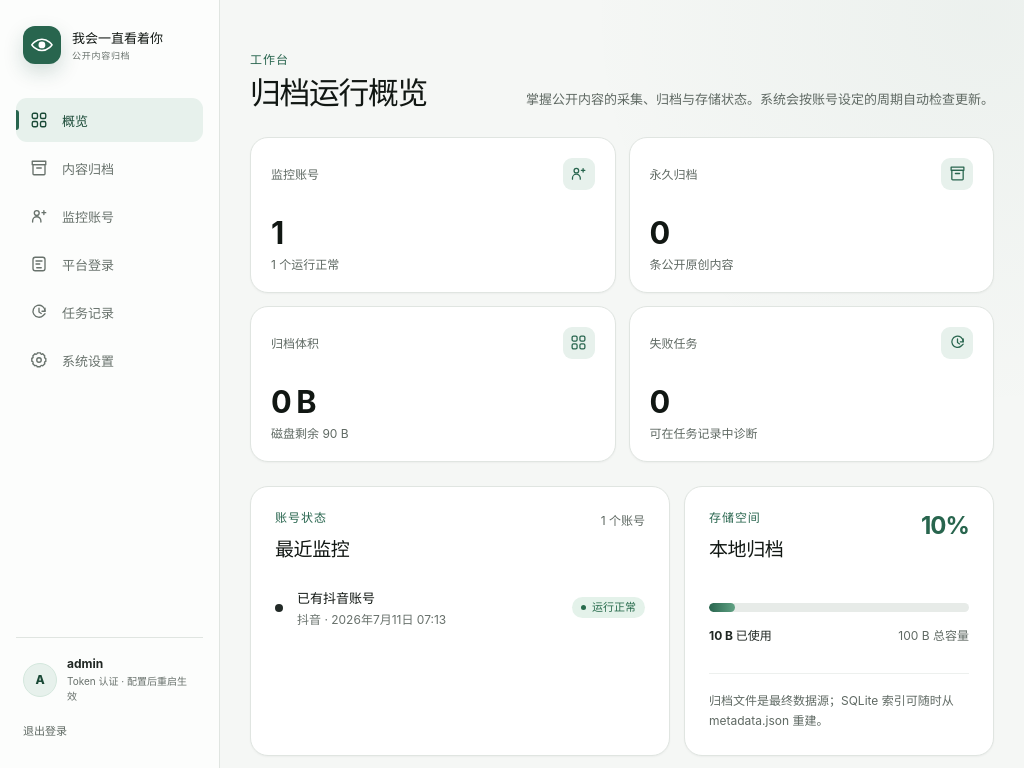
Test case: dashboard account loading › shows a platform login error on the account card and allows retrying
Expected: the text "已有抖音账号" is shown, [297,590,375,606]
Click the button "监控账号": (110, 216) [16,194,203,238]
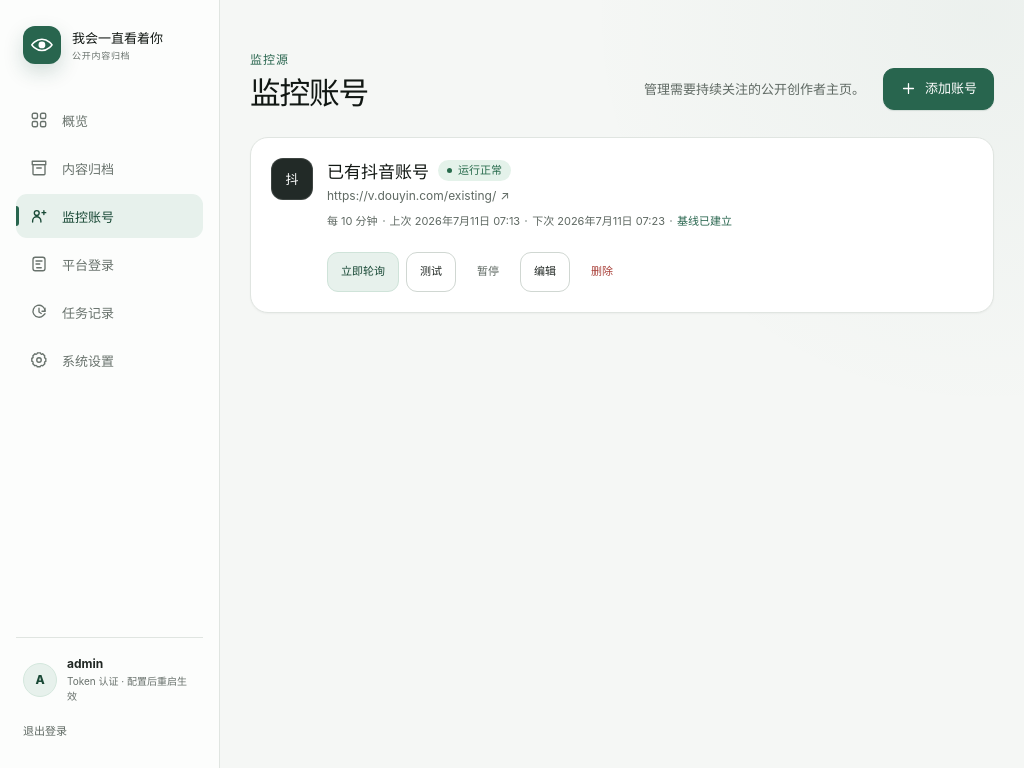
Click the button with aria-label "测试 已有抖音账号": (431, 272) [406,252,456,292]
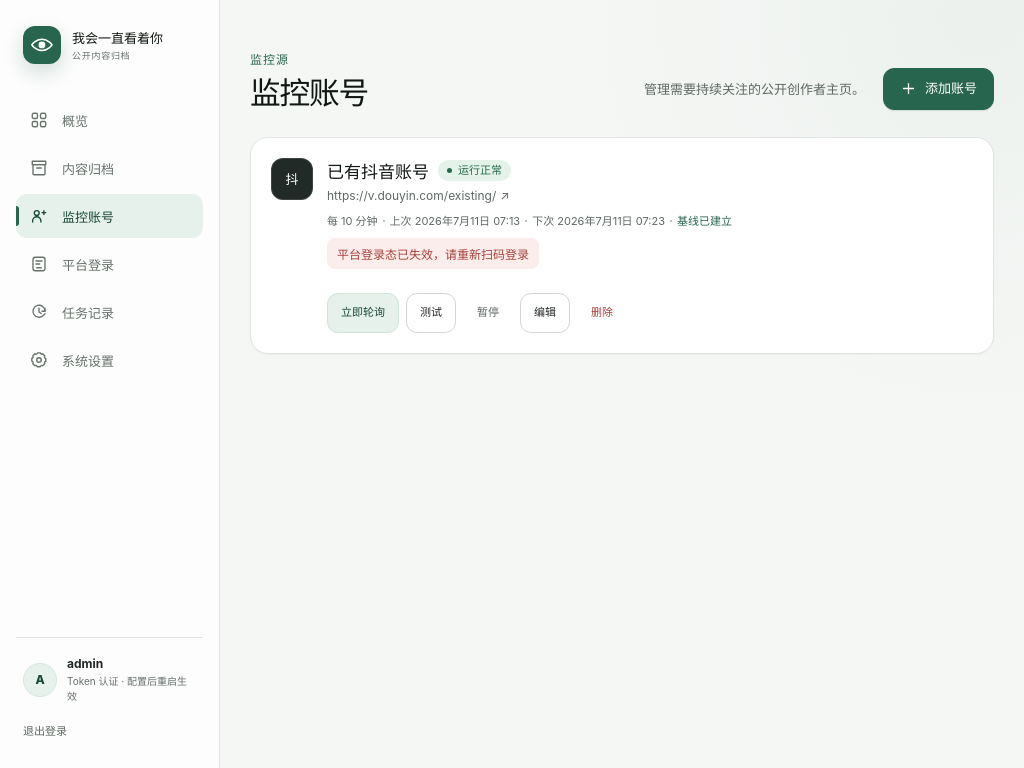
Expected: the button with aria-label "测试 已有抖音账号" is enabled, [406,293,456,333]
Expected: the message reads "平台登录态已失效，请重新扫码登录", [337,247,529,262]
